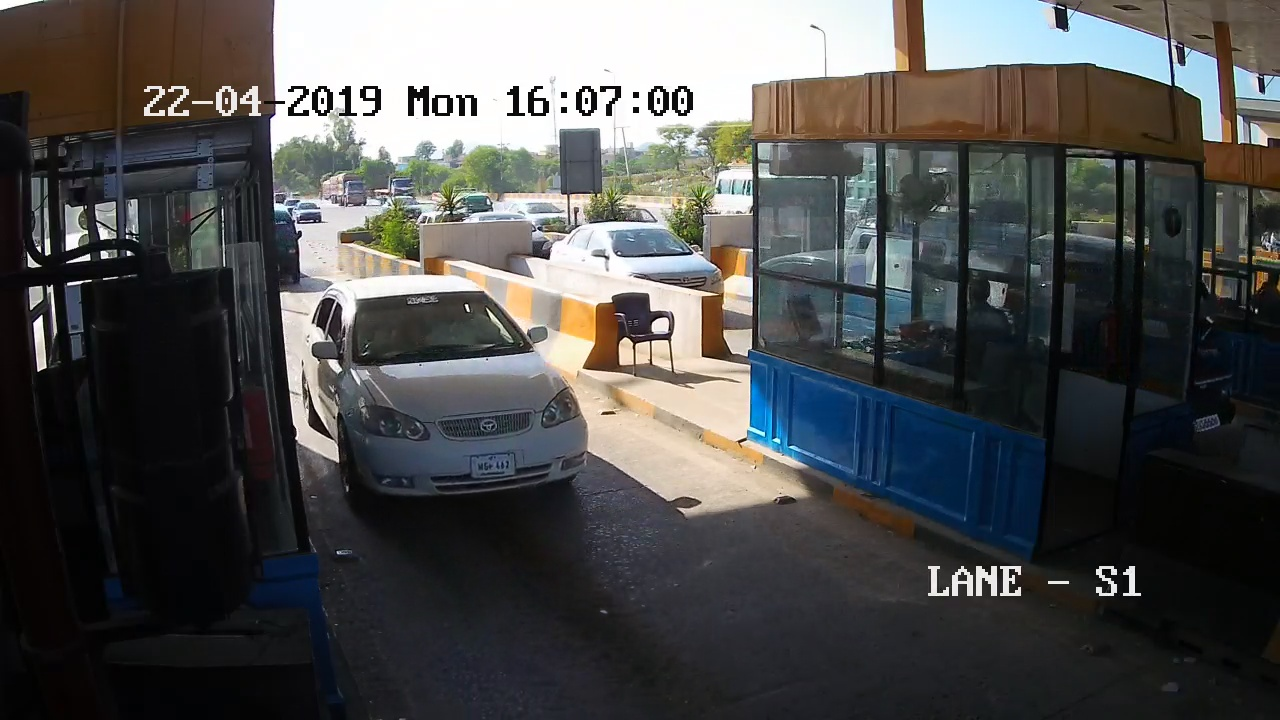Number Plate (Car): (467, 453, 516, 477)
